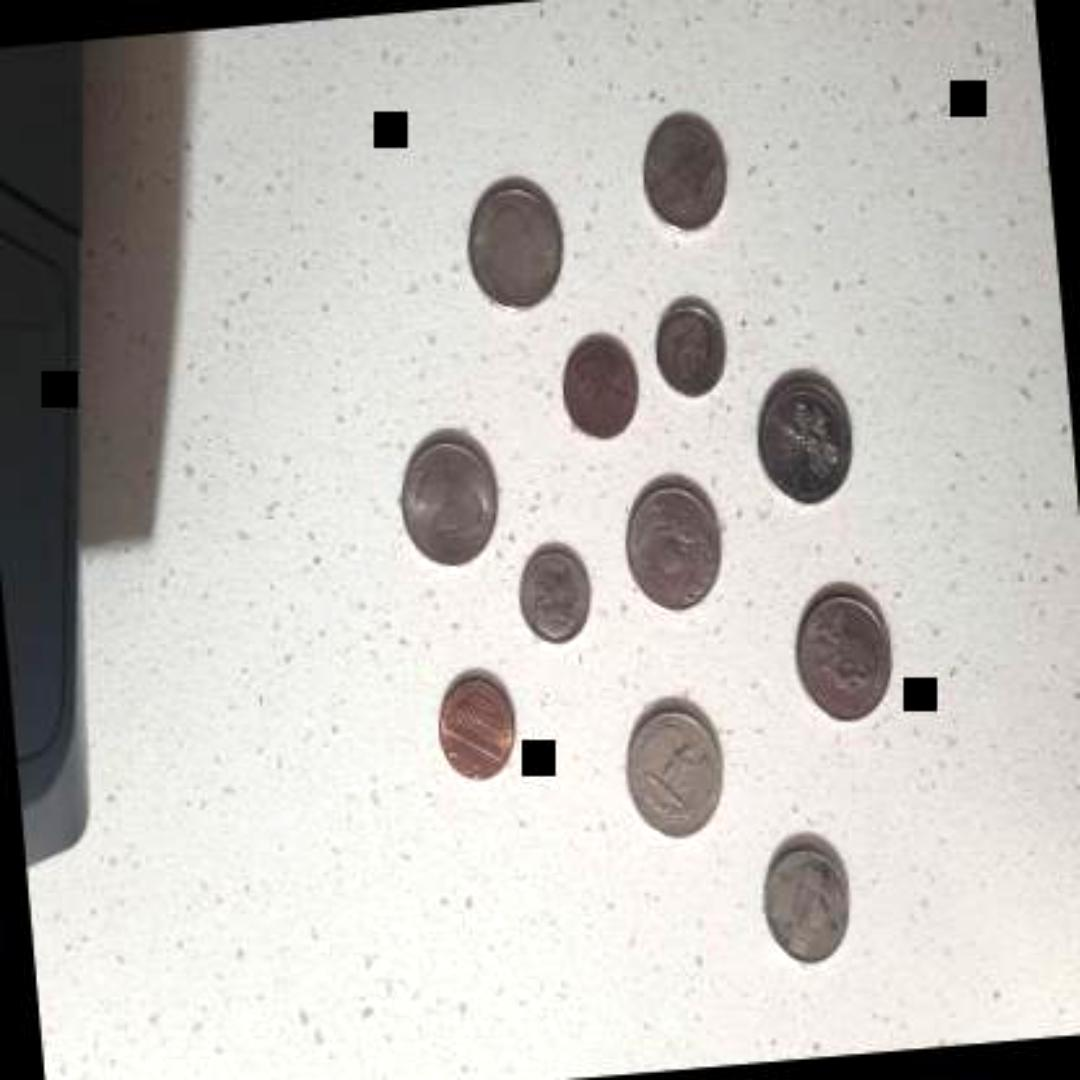Dime: (509, 532, 597, 646), (650, 294, 728, 400)
Nickel: (630, 84, 746, 254), (755, 832, 858, 960)
Penny: (422, 645, 530, 792), (429, 663, 527, 785), (556, 317, 646, 449)
Quarter: (782, 576, 909, 736), (457, 164, 579, 322), (387, 420, 503, 574), (620, 690, 730, 852), (614, 470, 730, 617), (749, 366, 865, 512)
